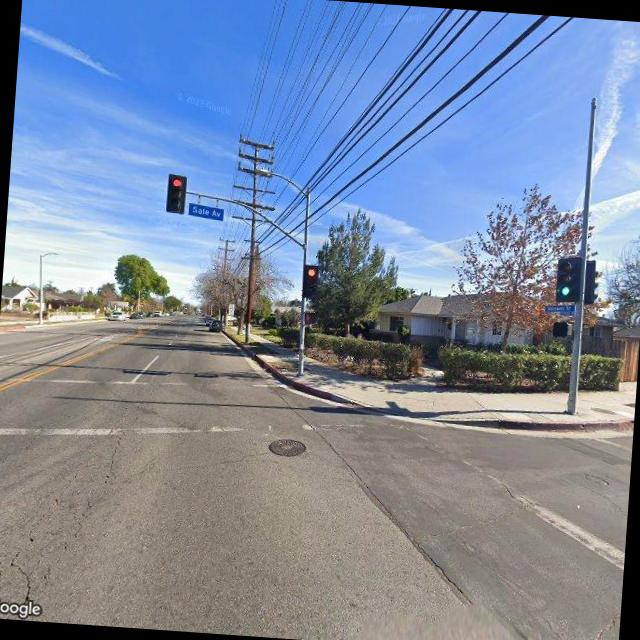crack: (0, 443, 111, 617)
pothole: (102, 429, 124, 484)
